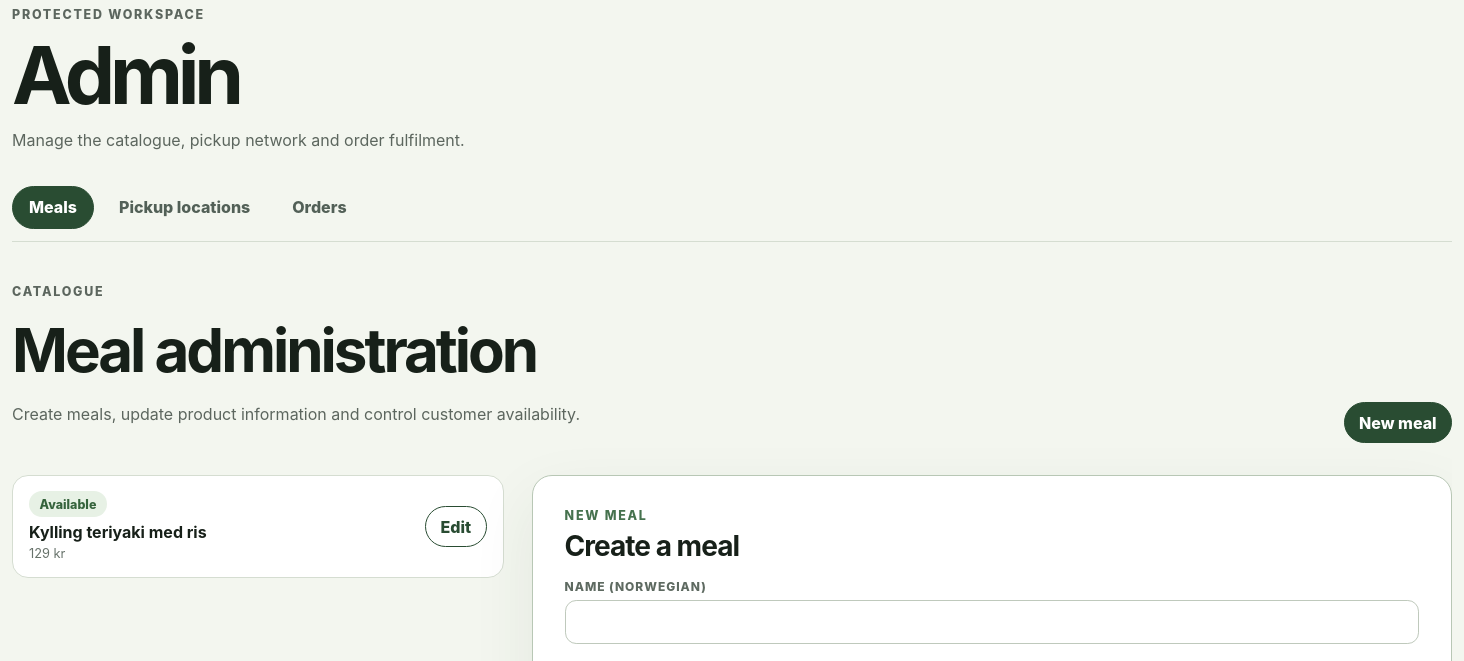
AdminPage › clears stale translations when Norwegian source fields change
The image size is (1464, 661).
Expected: the heading "Kylling teriyaki med ris" is shown, x1=29 y1=522 x2=207 y2=542
Click the button "Edit" at (456, 527), box x1=425 y1=506 x2=487 y2=547
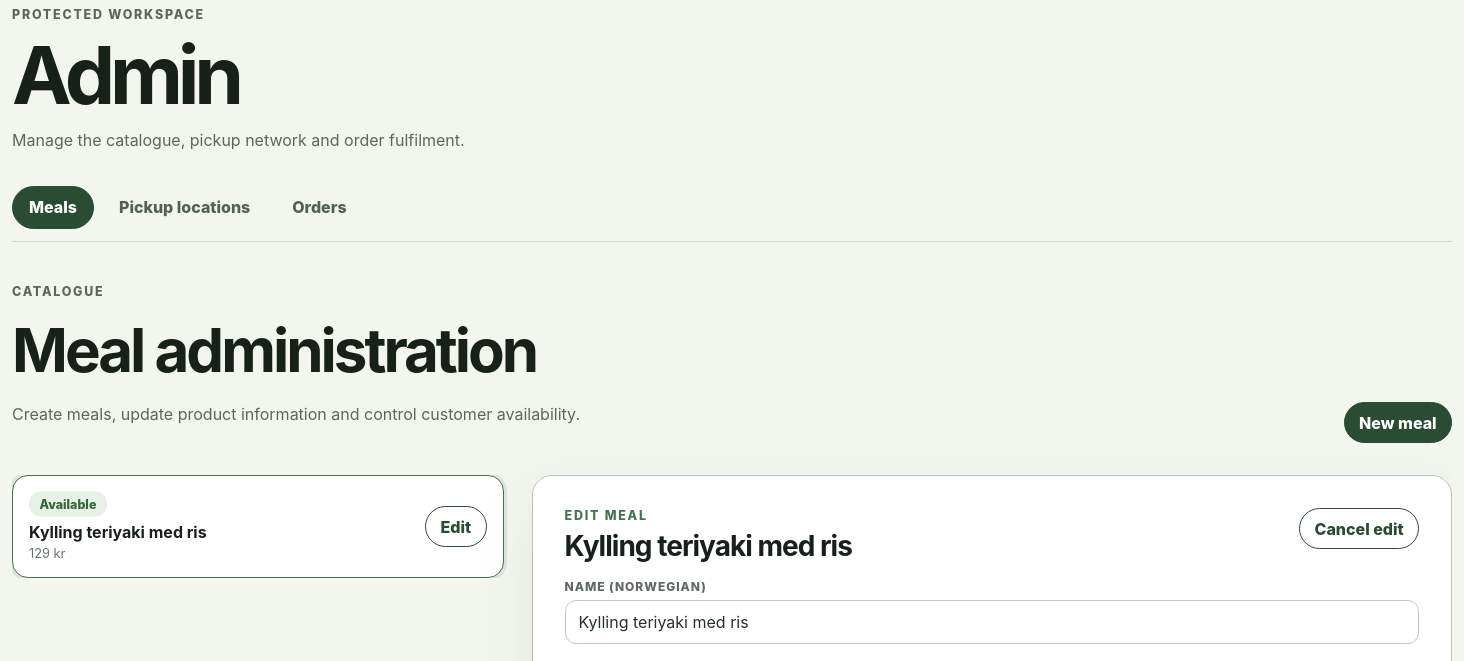
Replace the text in the field labelled "Name (Norwegian)" with "Ny norsk rett" at (992, 622), box x1=565 y1=600 x2=1419 y2=644
(page scrolled)
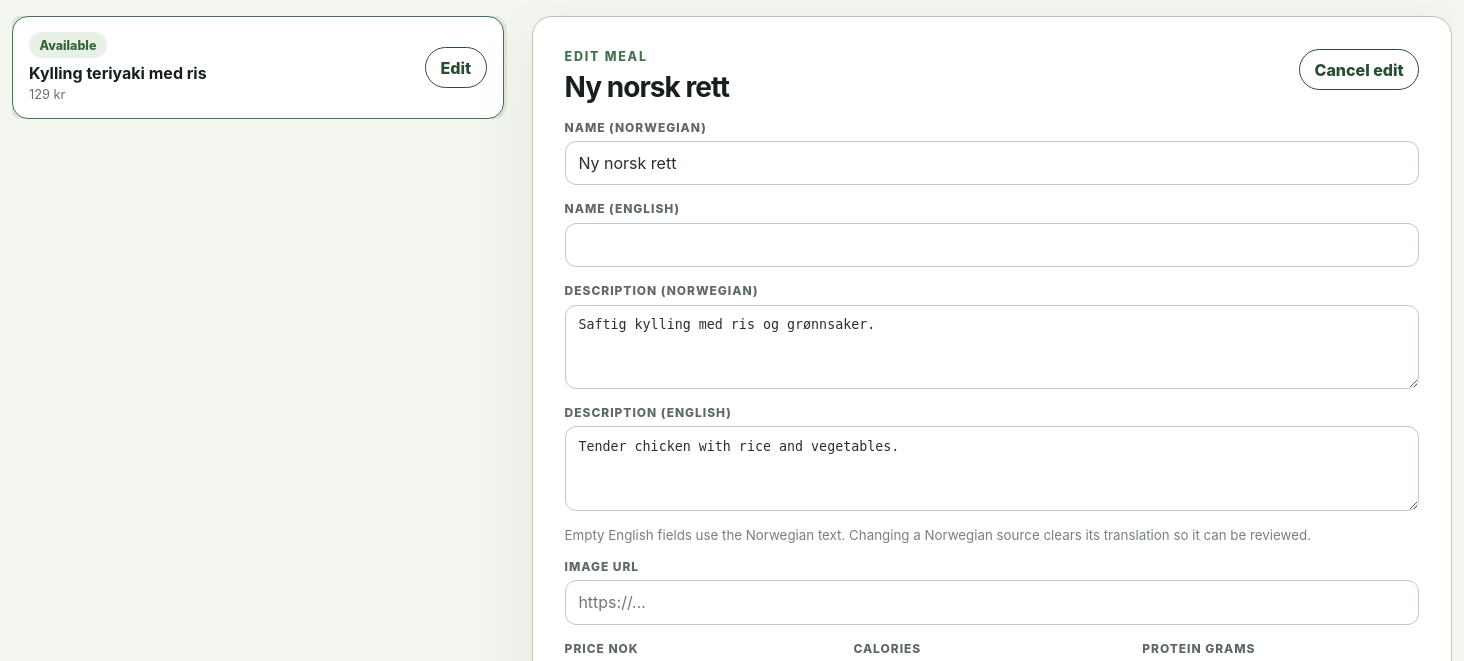
Replace the text in the text box labelled "Description (Norwegian)" with "Ny beskrivelse." at (992, 347), box x1=565 y1=305 x2=1419 y2=389
(page scrolled)
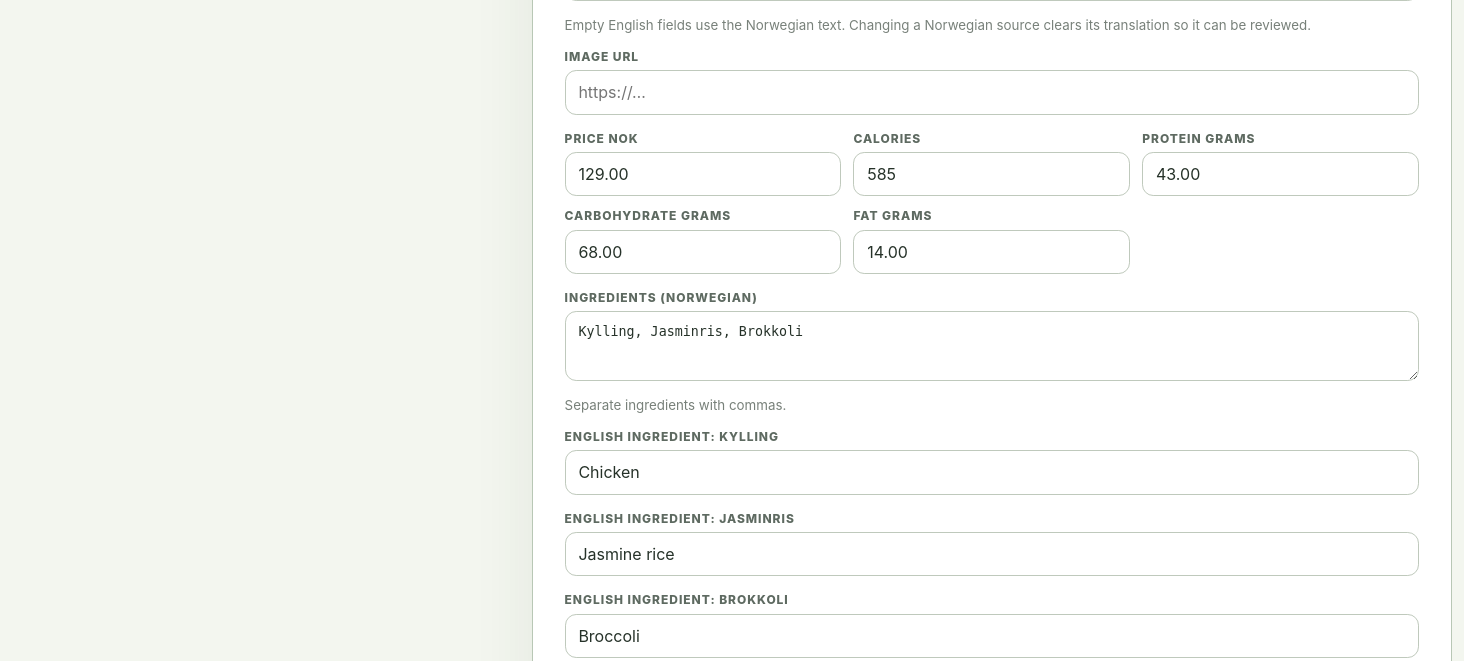
Replace the text in the text box labelled "Ingredients (Norwegian)" with "Kylling, Poteter" at (992, 346), box x1=565 y1=311 x2=1419 y2=381
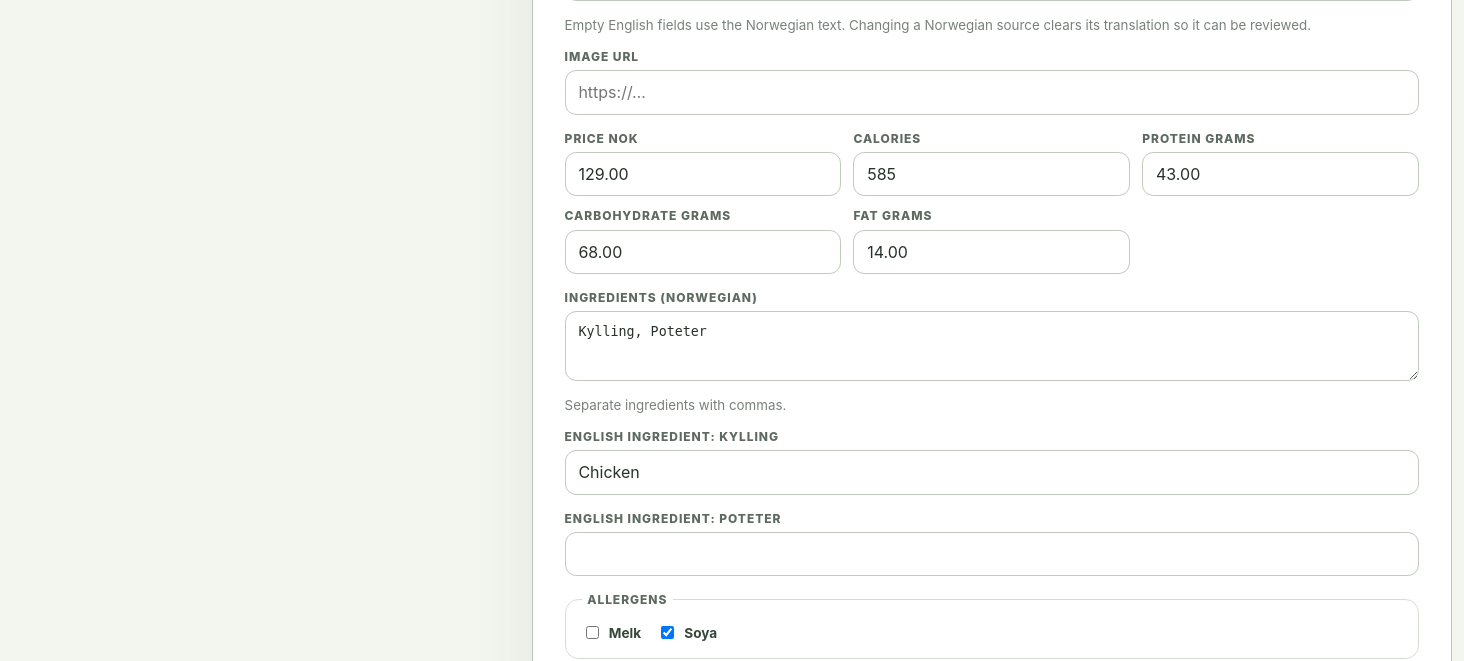
Result: the field labelled "English ingredient: Kylling" holds "Chicken" at x1=565 y1=450 x2=1419 y2=495
Result: the field labelled "English ingredient: Poteter" is empty at x1=565 y1=532 x2=1419 y2=576
